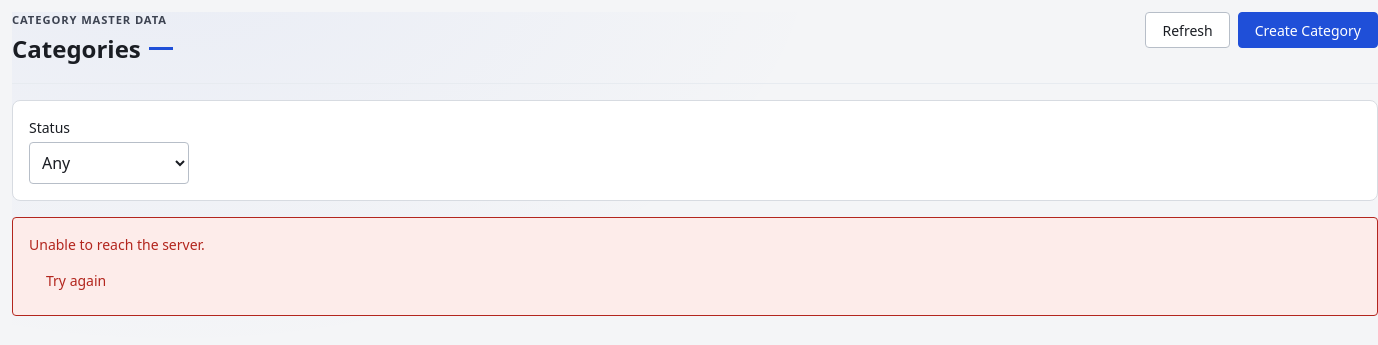
Test case: CategoryListPage › shows an error state with a working retry
The image size is (1378, 345).
Expected: the message shows "reach the server", [29,235,205,254]
Click the button "Try again" at x=76, y=281, box [29,263,123,299]
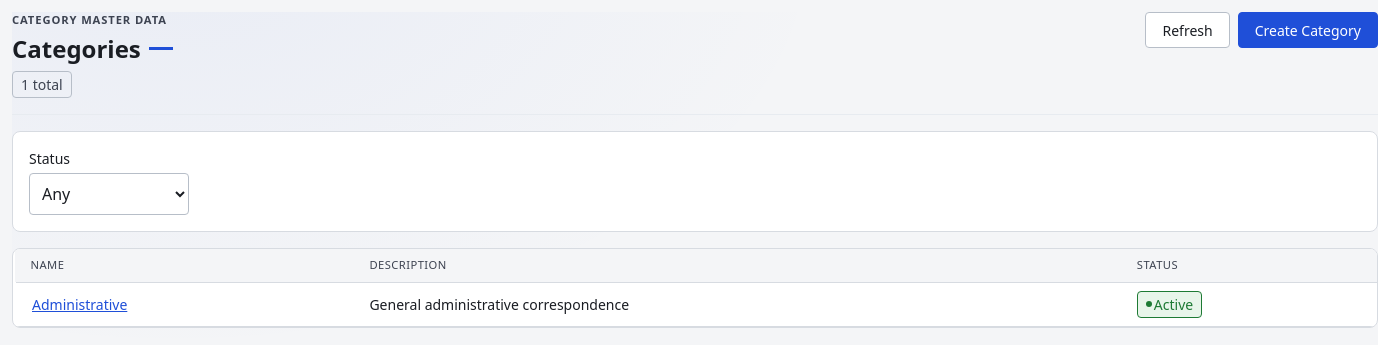
Expected: the link "Administrative" is shown, [32,295,127,314]
